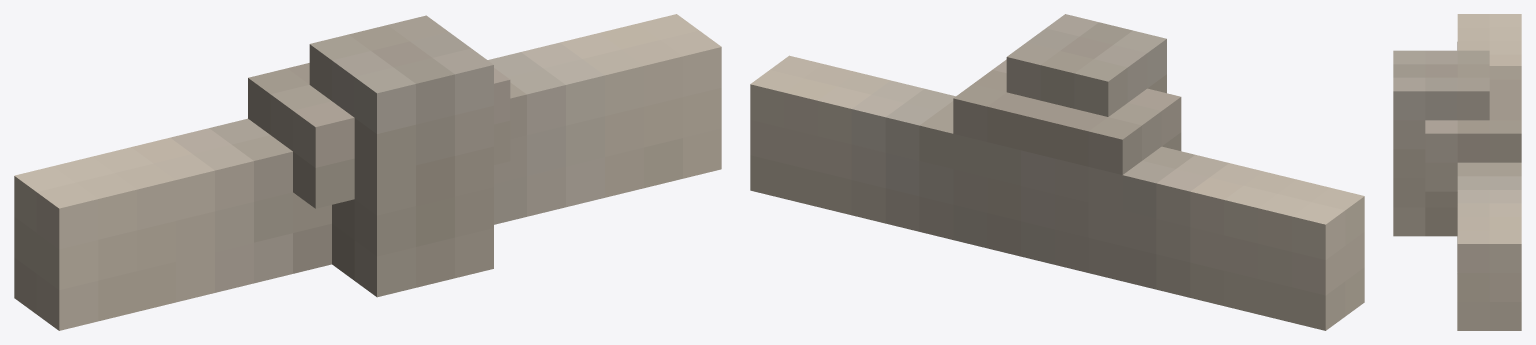
The model's file is palazzo17.glb.
The picture shows the model from 3 angles, left to right: view 1: azimuth 30°, elevation 25°; view 2: azimuth 150°, elevation 25°; view 3: azimuth 270°, elevation 25°; orthographic projection. The views are drawn at different scales.
Parts seen in each view (by area): view 1: Marcapiano.Decorato; view 2: Marcapiano.Decorato; view 3: Marcapiano.Decorato.
Boxes of the visible parts, x1,y1,x2,y2 form: Marcapiano.Decorato: [14, 14, 721, 330]; Marcapiano.Decorato: [750, 14, 1364, 330]; Marcapiano.Decorato: [1393, 14, 1521, 330].
Size of the model in its own units: 17 by 5 by 4.
1 material, 1 textured.
